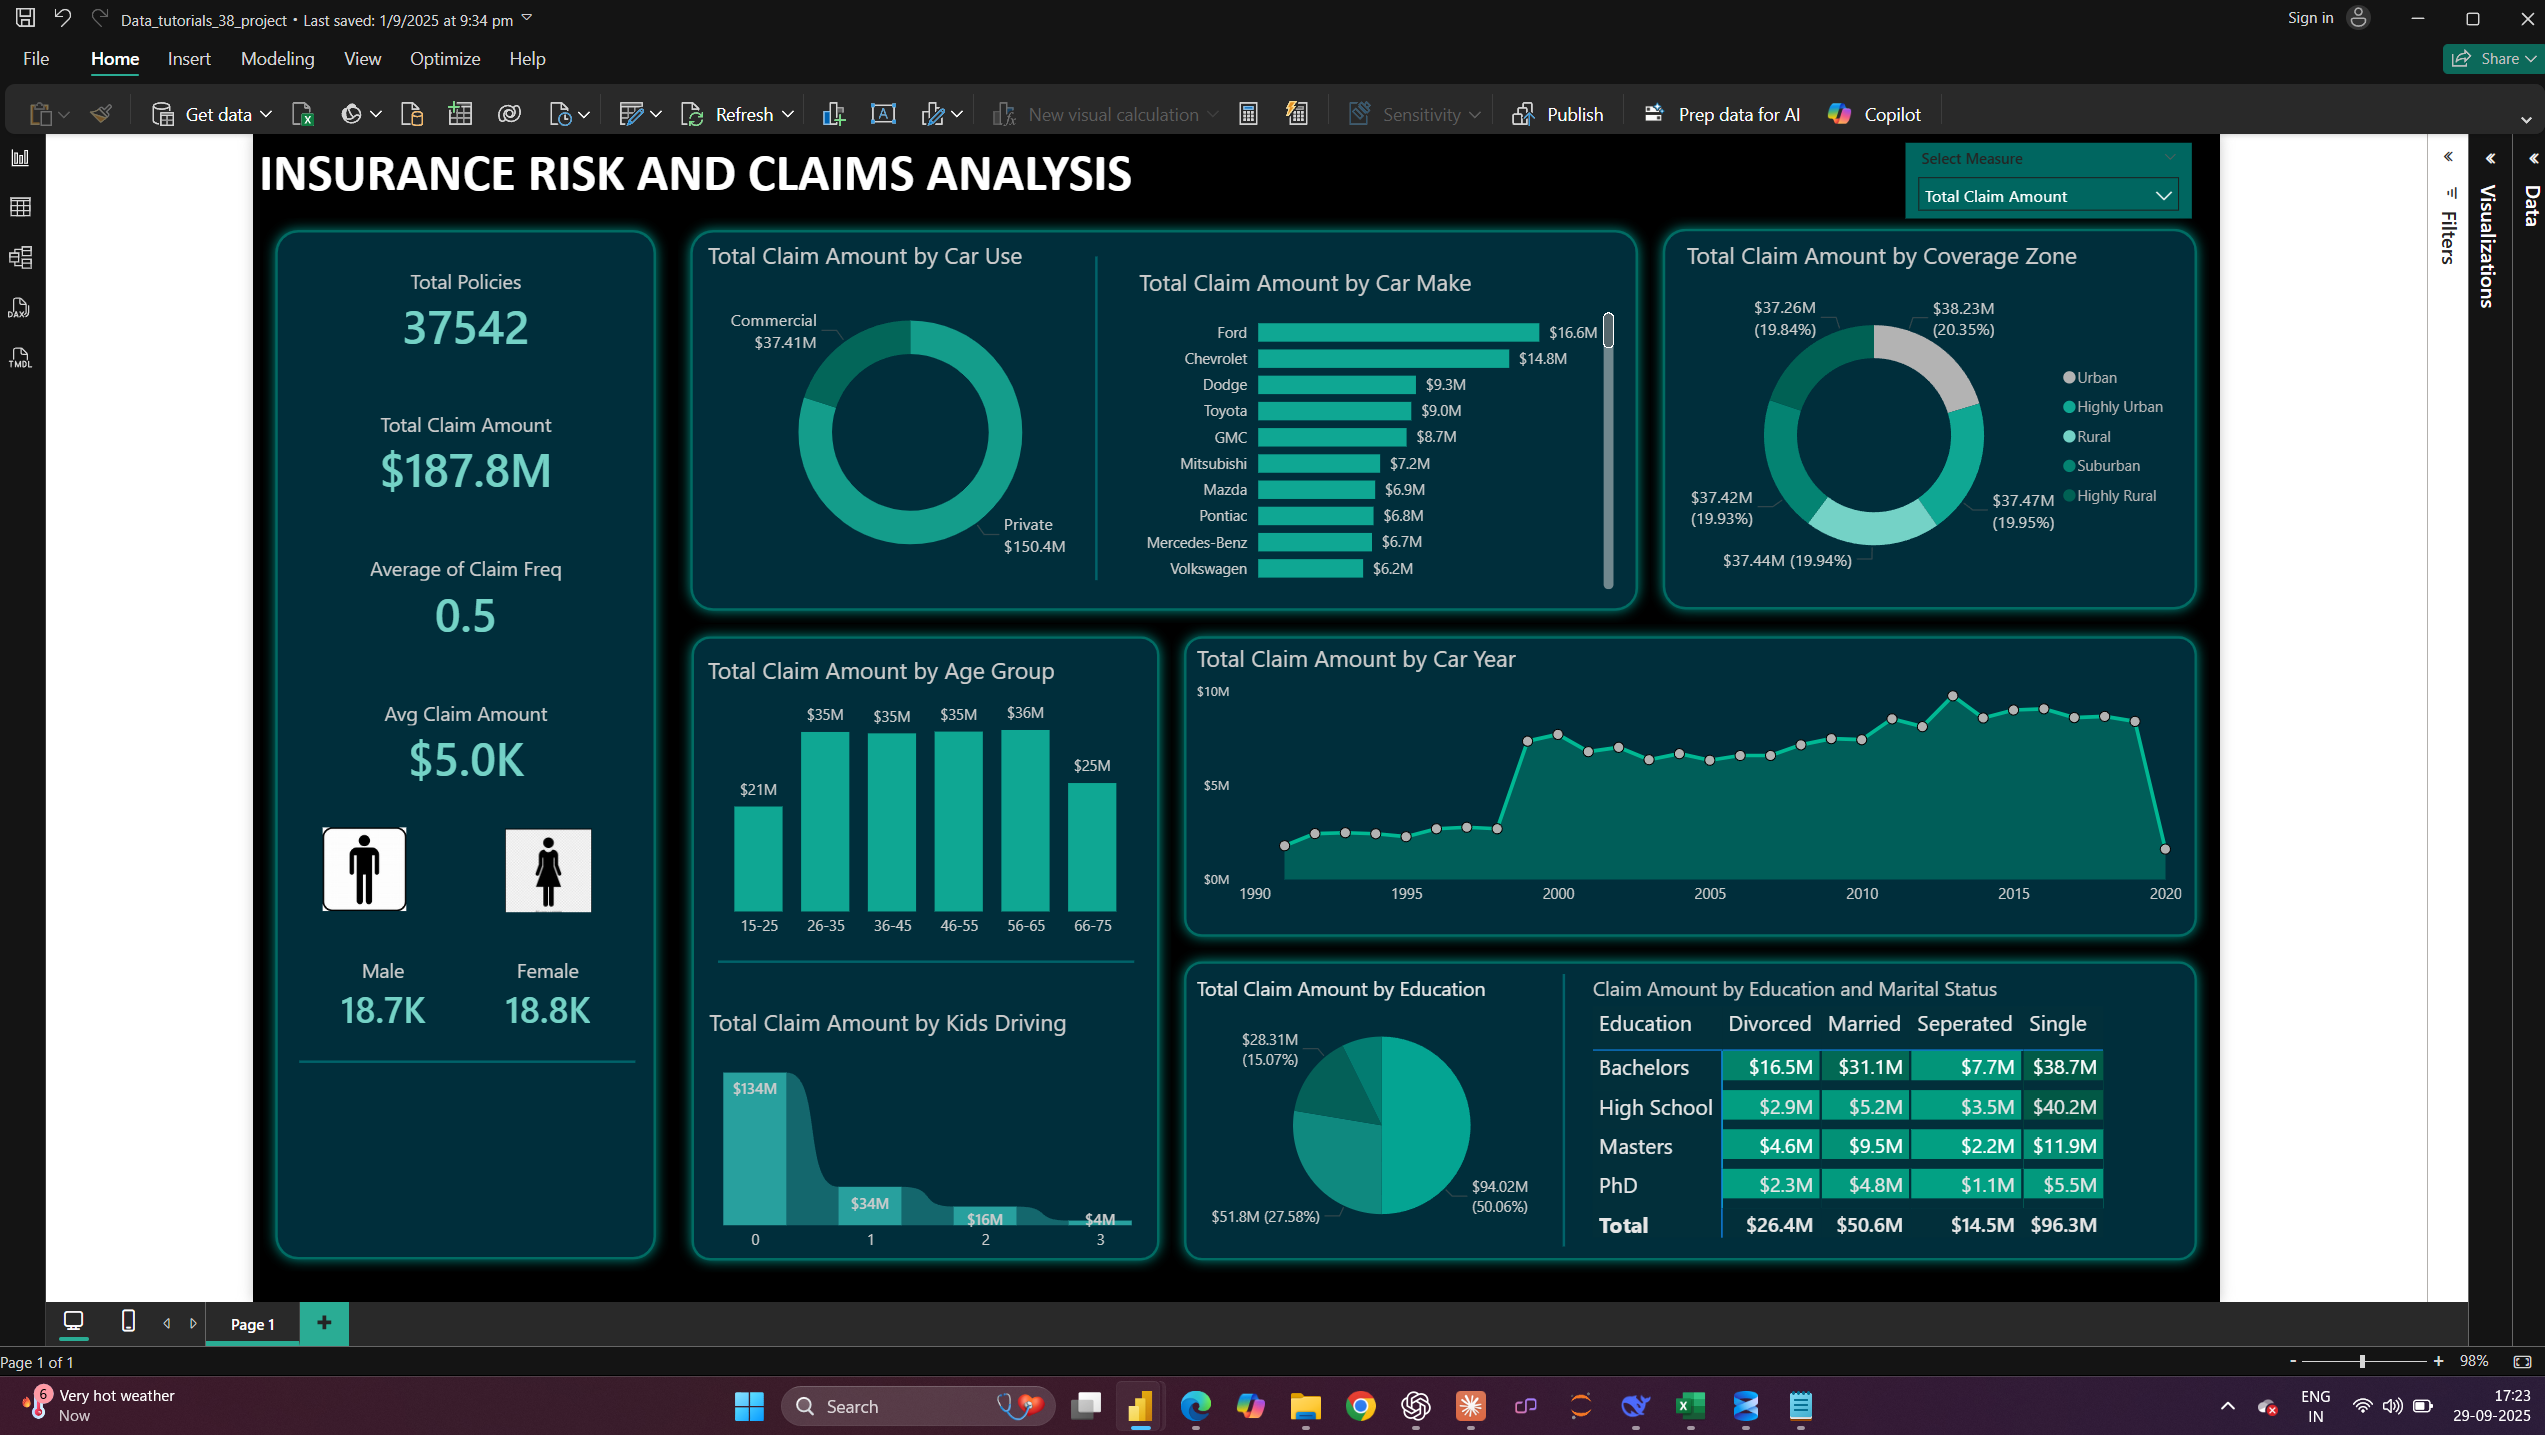

The page's visual inventory and layout, read from the dashboard file:
{"tool":"powerbi","page":{"name":"Page 1","canvas":[1600,950],"ordinal":0},"visuals":[{"type":"textbox","box":[0,0,729.8,68.7],"z":0},{"type":"shape","box":[7.9,68.6,329.5,856.9],"z":1000},{"type":"cardVisual","fields":{"Data":["insurance_data_car.Total Policies","insurance_data_car.Total Claim Amount","Avg(insurance_data_car.Claim Freq)","insurance_data_car.Avg Claim Amount"]},"box":[38.2,90,269.9,459.9],"z":2000},{"type":"cardVisual","fields":{"Data":["insurance_data_car.Male Count","insurance_data_car.Female Count"]},"box":[43.9,644.4,259.8,110.2],"z":3000},{"type":"image","box":[51.7,558.9,77.6,77.6],"z":4000},{"type":"image","box":[200.2,555.5,79.8,85.5],"z":5000},{"type":"slicer","fields":{"Values":["Select Measure.Select Measure"]},"box":[1343.8,6.7,232.8,61.9],"z":6000},{"type":"shape","box":[345.2,68.6,790.6,329.5],"z":7000},{"type":"donutChart","fields":{"Y":["insurance_data_car.Total Claim Amount"],"Category":["insurance_data_car.Car Use"]},"box":[364.4,85.5,339.6,290.1],"z":8000},{"type":"clusteredBarChart","fields":{"Y":["insurance_data_car.Total Claim Amount"],"Category":["insurance_data_car.Car Make"]},"box":[715.2,108,395.8,267.6],"z":9000},{"type":"shape","box":[1135.8,67.5,454.3,329.5],"z":10000},{"type":"donutChart","fields":{"Y":["insurance_data_car.Total Claim Amount"],"Category":["insurance_data_car.Coverage Zone"]},"box":[1160.5,85.5,407.1,294.6],"z":11000},{"type":"shape","box":[346.4,398.1,400.3,527.4],"z":12000},{"type":"clusteredColumnChart","fields":{"Y":["insurance_data_car.Total Claim Amount"],"Category":["insurance_data_car.Age Group"]},"box":[364.4,422.8,365.5,239.5],"z":13000},{"type":"ribbonChart","fields":{"Y":["insurance_data_car.Total Claim Amount"],"Category":["insurance_data_car.Kids Driving"]},"box":[365.5,709.6,365.5,208],"z":14000},{"type":"shape","box":[746.7,398.1,843.4,264.3],"z":15000},{"type":"areaChart","fields":{"Y":["insurance_data_car.Total Claim Amount"],"Category":["insurance_data_car.Car Year"]},"box":[762.4,413.8,810.8,222.7],"z":16000},{"type":"shape","box":[746.7,662.4,843.4,263.1],"z":17000},{"type":"pieChart","fields":{"Y":["insurance_data_car.Total Claim Amount"],"Category":["insurance_data_car.Education"]},"box":[762.4,682.6,311.5,224.9],"z":18000},{"type":"pivotTable","title":"Claim Amount by Education and Marital Status","fields":{"Rows":["insurance_data_car.Education"],"Columns":["insurance_data_car.Marital Status"],"Values":["insurance_data_car.Total Claim Amount"]},"box":[1084.1,682.6,489.2,224.9],"z":19000},{"type":"shape","box":[668,100.1,36,263.1],"z":20000},{"type":"shape","box":[1048.1,682.6,36,221.5],"z":21000},{"type":"shape","box":[377.8,655.6,338.5,34.9],"z":22000},{"type":"shape","box":[37.1,736.6,273.3,34.9],"z":23000}]}

Visuals, with their boxes on the page's 1600x950 design canvas (x1, y1, x2, y2). These are canvas units, not pixel positions in the 2545x1435 screenshot, which may show the page scaled, cropped or inside an application window:
textbox: bbox=[0, 0, 730, 69]
shape: bbox=[8, 69, 337, 926]
cardVisual - insurance_data_car.Total Policies x insurance_data_car.Total Claim Amount: bbox=[38, 90, 308, 550]
cardVisual - insurance_data_car.Male Count x insurance_data_car.Female Count: bbox=[44, 644, 304, 755]
image: bbox=[52, 559, 129, 636]
image: bbox=[200, 556, 280, 641]
slicer - Select Measure.Select Measure: bbox=[1344, 7, 1577, 69]
shape: bbox=[345, 69, 1136, 398]
donutChart - insurance_data_car.Total Claim Amount x insurance_data_car.Car Use: bbox=[364, 86, 704, 376]
clusteredBarChart - insurance_data_car.Total Claim Amount x insurance_data_car.Car Make: bbox=[715, 108, 1111, 376]
shape: bbox=[1136, 68, 1590, 397]
donutChart - insurance_data_car.Total Claim Amount x insurance_data_car.Coverage Zone: bbox=[1160, 86, 1568, 380]
shape: bbox=[346, 398, 747, 926]
clusteredColumnChart - insurance_data_car.Total Claim Amount x insurance_data_car.Age Group: bbox=[364, 423, 730, 662]
ribbonChart - insurance_data_car.Total Claim Amount x insurance_data_car.Kids Driving: bbox=[366, 710, 731, 918]
shape: bbox=[747, 398, 1590, 662]
areaChart - insurance_data_car.Total Claim Amount x insurance_data_car.Car Year: bbox=[762, 414, 1573, 636]
shape: bbox=[747, 662, 1590, 926]
pieChart - insurance_data_car.Total Claim Amount x insurance_data_car.Education: bbox=[762, 683, 1074, 908]
"Claim Amount by Education and Marital Status" pivotTable: bbox=[1084, 683, 1573, 908]
shape: bbox=[668, 100, 704, 363]
shape: bbox=[1048, 683, 1084, 904]
shape: bbox=[378, 656, 716, 690]
shape: bbox=[37, 737, 310, 772]
